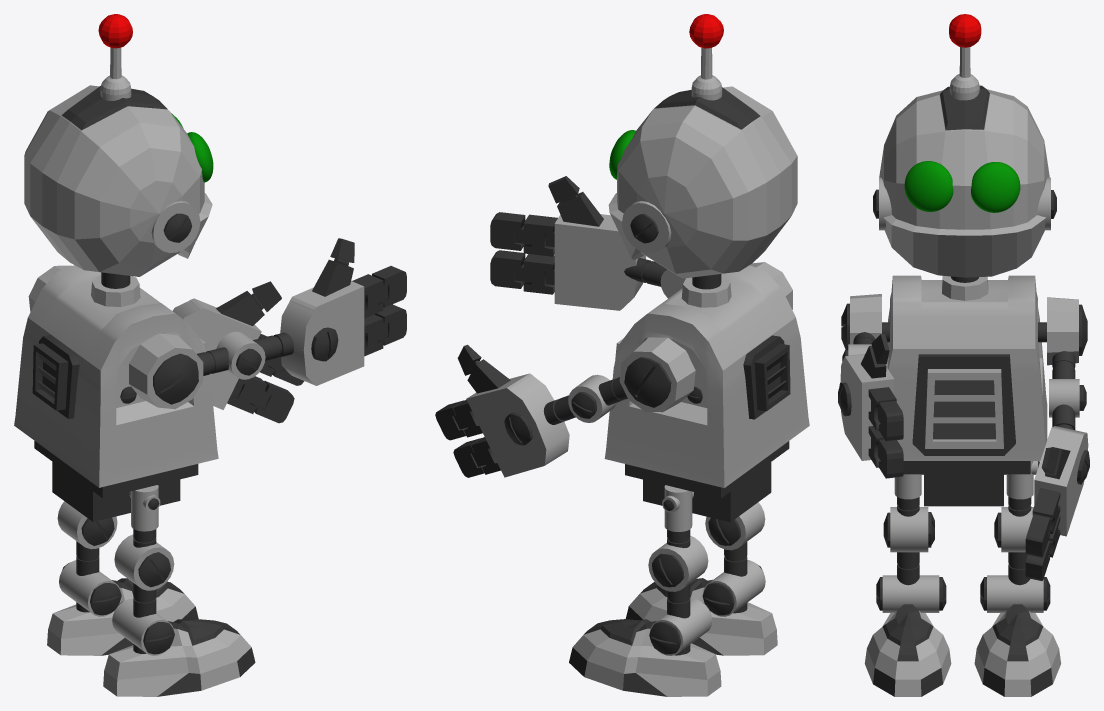
Rendered from maya2sketchfab.fbx.
3 renders of one model, left to right at view 1: azimuth 30°, elevation 25°; view 2: azimuth 150°, elevation 25°; view 3: azimuth 270°, elevation 25°, orthographic. The views are drawn at different scales.
Visible parts, largest first — view 1: pCube1, pSphere8, pSphere3, pCube3, pSphere2, pCube2, pCube47, pCylinder2, pCube27, pCylinder8, pCylinder16, pCylinder12 (+25 smaller); view 2: pCube1, pSphere8, pSphere2, pCube3, pCube2, pSphere3, pCube47, pCylinder1, pCube28, pCylinder7, pCylinder24, pCylinder11 (+25 smaller); view 3: pSphere8, pCube1, pCube41, pSphere2, pSphere3, pCube2, pCube3, pSphere10, pSphere9, pCylinder11, pCylinder1, pCylinder12 (+24 smaller).
Part boxes in pixels (x1,y1,x2,y2): pCube1: [14, 265, 218, 521]; pSphere8: [24, 85, 212, 276]; pSphere3: [103, 619, 255, 696]; pCube3: [280, 281, 364, 385]; pSphere2: [47, 578, 198, 655]; pCube2: [172, 298, 261, 409]; pCube47: [32, 335, 79, 418]; pCylinder2: [129, 333, 203, 409]; pCube27: [153, 353, 198, 404]; pCylinder8: [114, 534, 174, 590]; pCylinder16: [197, 332, 293, 375]; pCylinder12: [59, 560, 121, 616]; pCube1: [604, 265, 809, 522]; pSphere8: [608, 86, 797, 278]; pSphere2: [569, 619, 721, 696]; pCube3: [554, 214, 645, 310]; pCube2: [466, 373, 569, 477]; pSphere3: [625, 578, 777, 655]; pCube47: [743, 335, 790, 419]; pCylinder1: [619, 337, 695, 412]; pCube28: [624, 357, 671, 407]; pCylinder7: [648, 536, 708, 591]; pCylinder24: [622, 201, 671, 253]; pCylinder11: [703, 560, 765, 616]; pSphere8: [879, 85, 1049, 277]; pCube1: [885, 275, 1047, 506]; pCube41: [912, 354, 1015, 455]; pSphere2: [974, 604, 1061, 696]; pSphere3: [864, 604, 951, 696]; pCube2: [1034, 426, 1088, 536]; pCube3: [840, 354, 894, 460]; pSphere10: [971, 162, 1020, 212]; pSphere9: [904, 161, 953, 211]; pCylinder11: [882, 575, 939, 612]; pCylinder1: [1047, 297, 1078, 365]; pCylinder12: [987, 575, 1043, 612].
Bounding box in the file's own units: 11.3 × 21.48 × 7.76.
